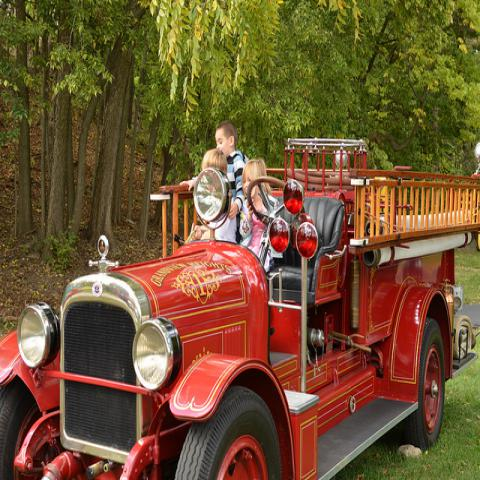truck: (0, 121, 479, 479)
